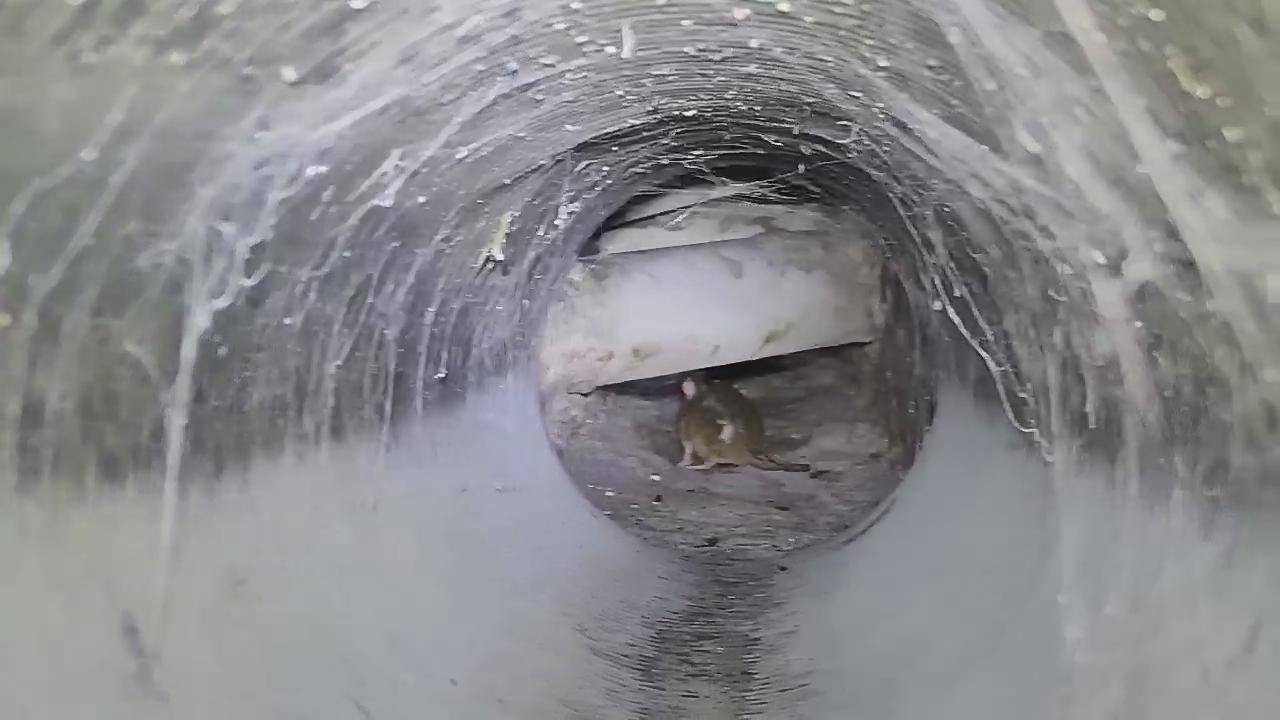FZ: (539, 185, 882, 394)
